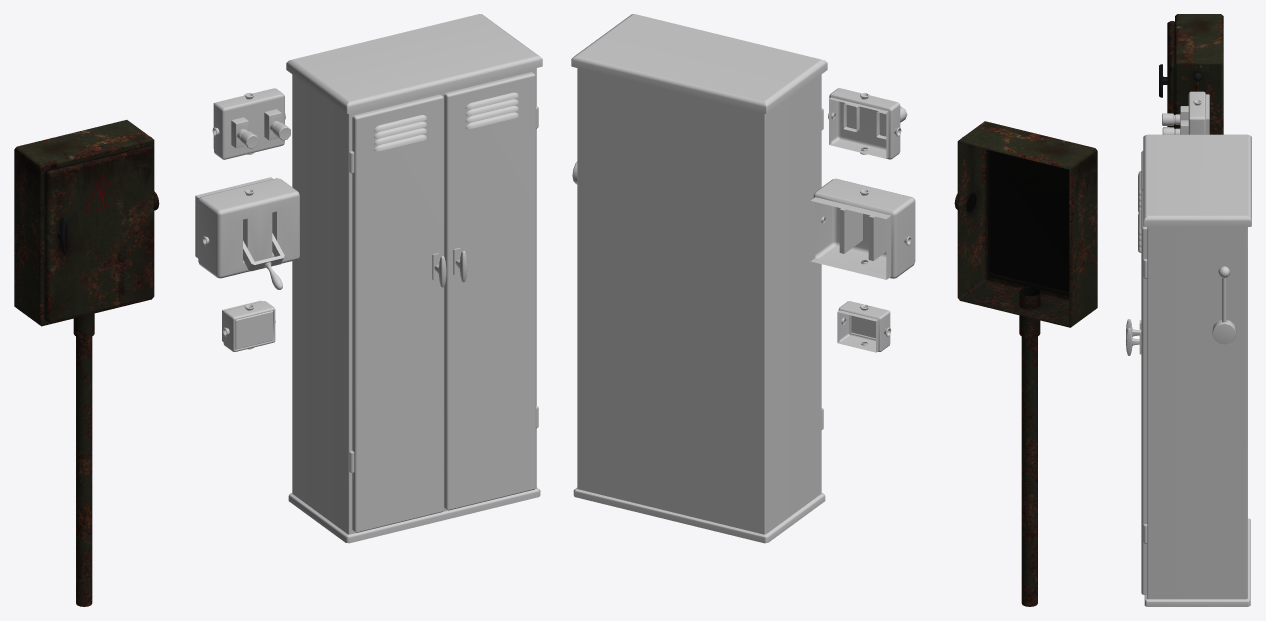
Rendered from ElectroBox_All_Pack.fbx.
3 renders of one model, left to right at view 1: azimuth 30°, elevation 25°; view 2: azimuth 150°, elevation 25°; view 3: azimuth 270°, elevation 25°, orthographic. The views are drawn at different scales.
Visible parts, largest first — view 1: ElectroBox_02, ElectroBox_01, ElectroBox_05, ElectroBox_04, ElectroBox_03, Trigger; view 2: ElectroBox_02, ElectroBox_01, ElectroBox_05, ElectroBox_04, ElectroBox_03; view 3: ElectroBox_02, ElectroBox_01, ElectroBox_04, Handle_EB_02.
Boxes of the visible parts, box(x1,y1,x2,y2) form: ElectroBox_02: box(286, 14, 542, 543); ElectroBox_01: box(14, 120, 154, 606); ElectroBox_05: box(195, 177, 299, 278); ElectroBox_04: box(212, 88, 285, 159); ElectroBox_03: box(222, 300, 275, 351); Trigger: box(243, 233, 284, 289); ElectroBox_02: box(571, 14, 827, 543); ElectroBox_01: box(957, 121, 1097, 606); ElectroBox_05: box(810, 178, 915, 279); ElectroBox_04: box(828, 88, 901, 159); ElectroBox_03: box(837, 301, 891, 352); ElectroBox_02: box(1126, 134, 1251, 606); ElectroBox_01: box(1159, 14, 1223, 134); ElectroBox_04: box(1175, 91, 1209, 134); Handle_EB_02: box(1212, 266, 1236, 344).
Bounding box in the file's own units: 239 × 217 × 59.69.
